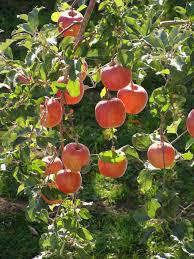apple: (148, 139, 176, 171), (102, 59, 133, 87), (96, 155, 130, 179), (38, 101, 65, 130), (58, 79, 89, 103), (124, 85, 148, 112), (58, 10, 86, 33), (98, 103, 126, 125), (184, 109, 193, 140), (65, 65, 91, 73), (62, 142, 82, 145)
